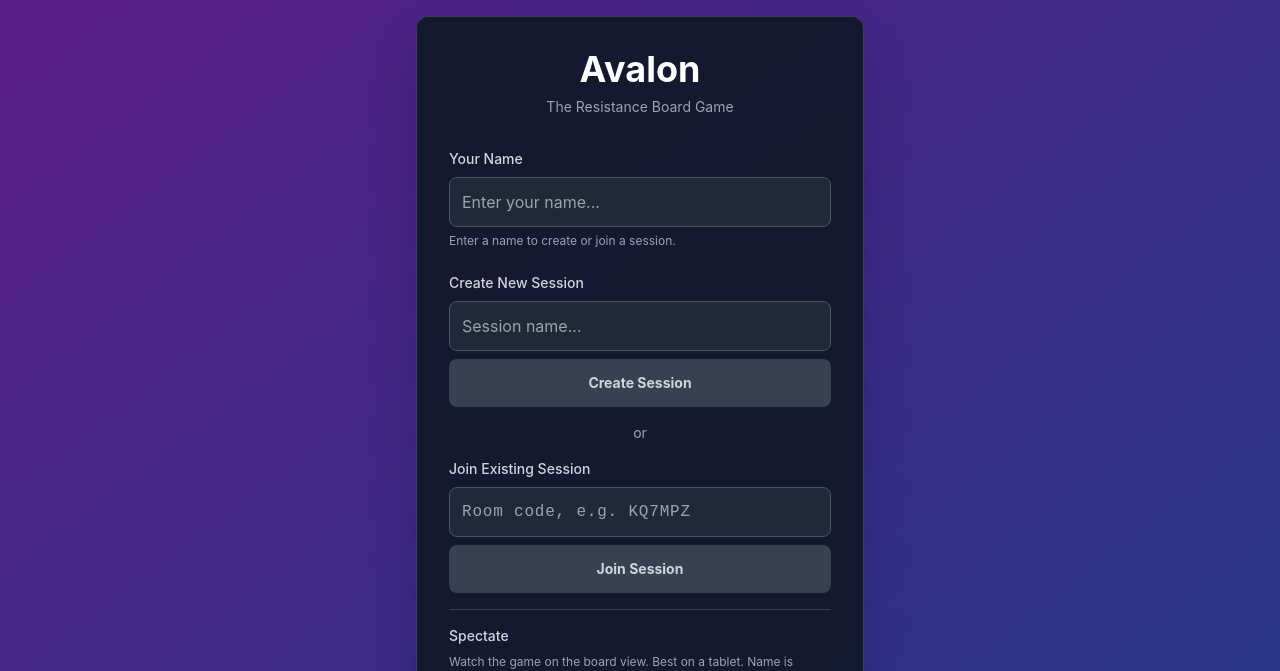
Test case: MainMenu › create session flow › displays error on create failure
The width and height of the screenshot is (1280, 671).
Type "Alice" into the field with placeholder "Enter your name..." at (640, 202), box [449, 177, 831, 227]
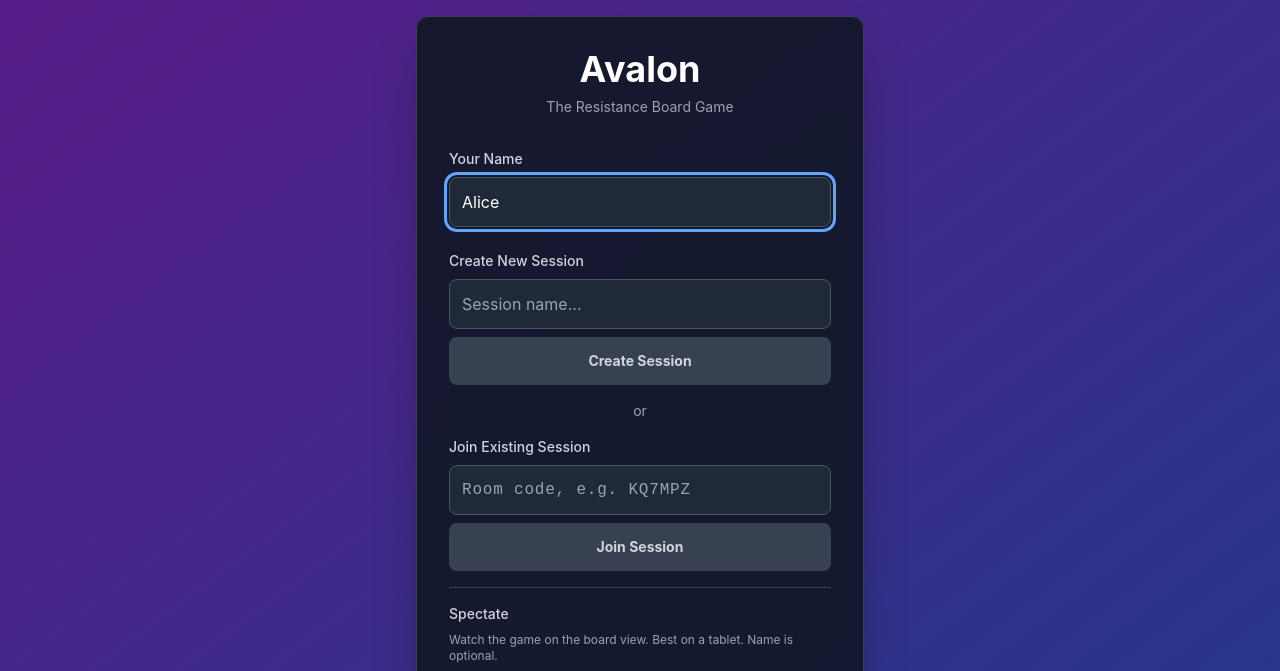
Type "My Game" into the field with placeholder "Session name..." at (640, 304), box [449, 279, 831, 329]
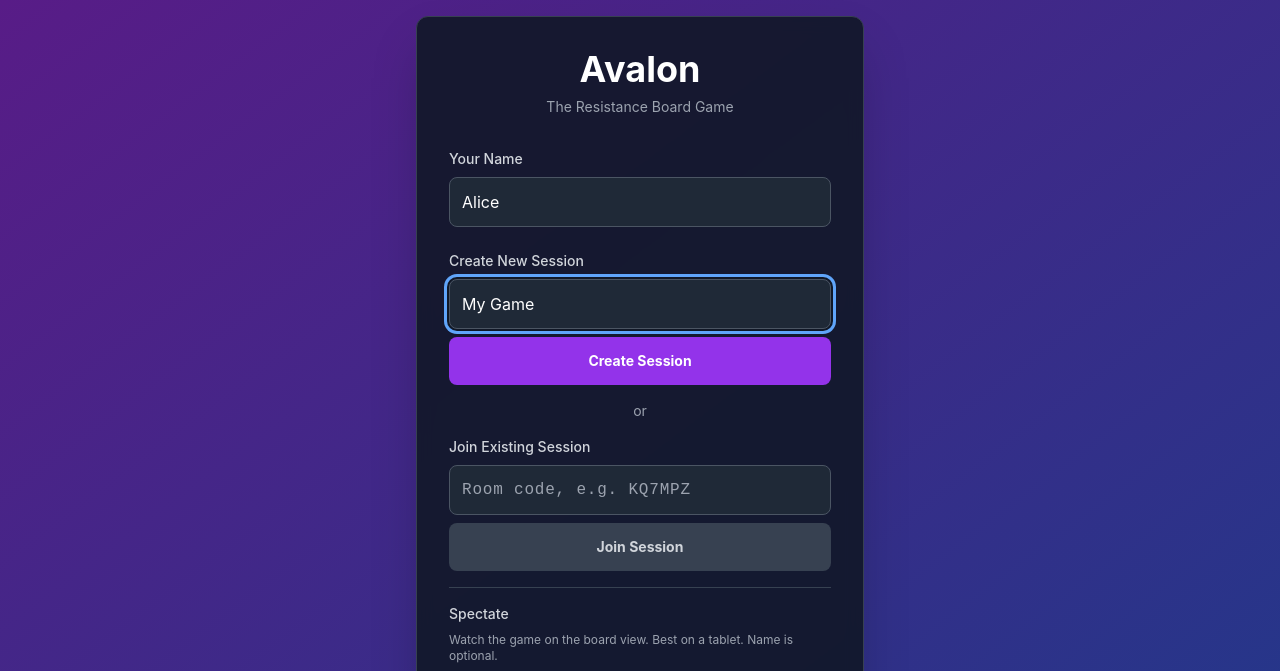
Click the button "Create Session" at (640, 361), box [449, 337, 831, 385]
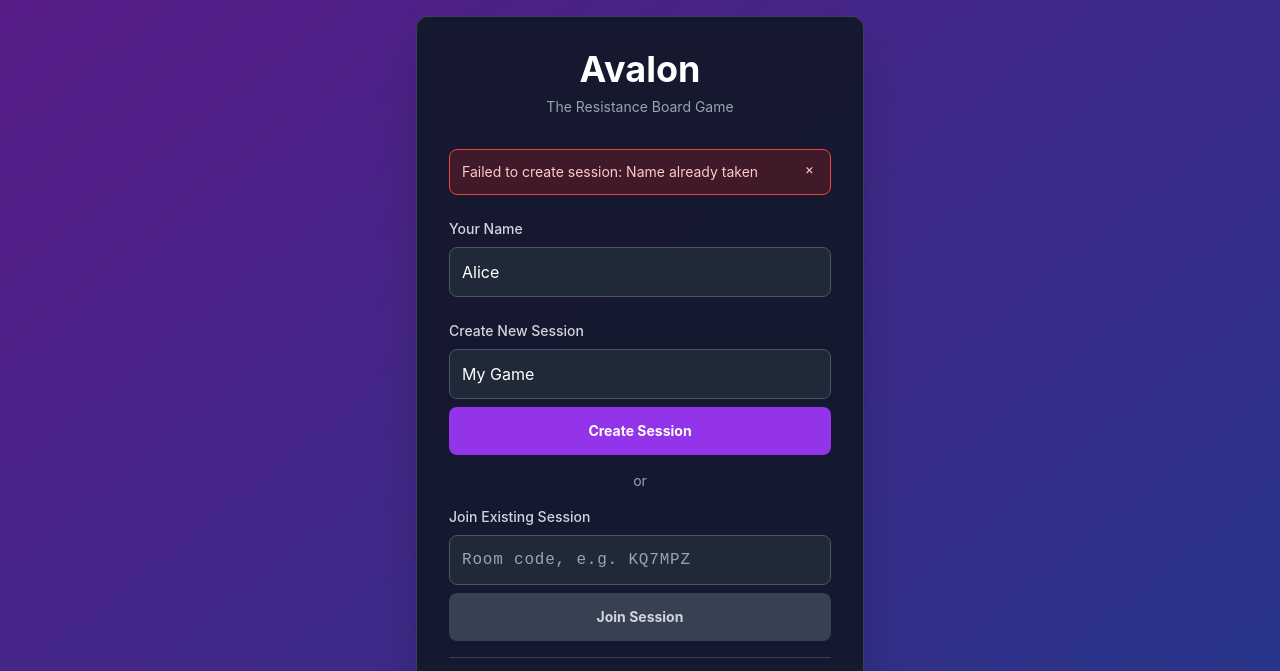
Now the text "Failed to create session: Name already taken" is shown, box [462, 162, 793, 182]
